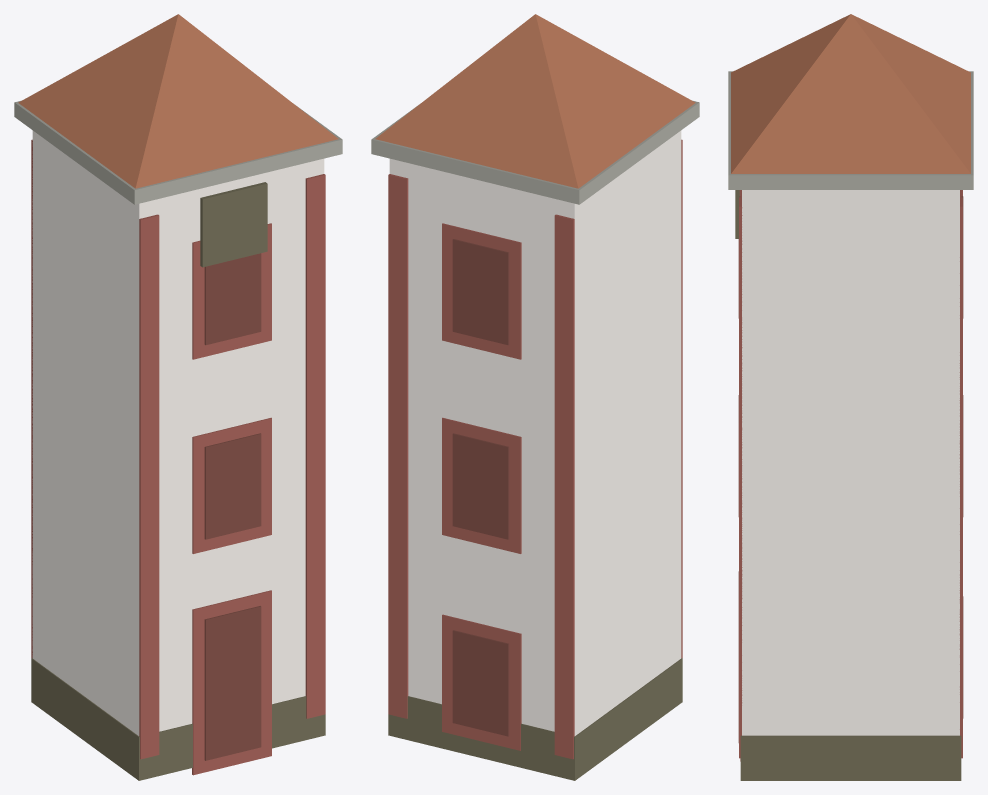
Rendered from SM_KitRemate_v2_LOD1.fbx.
The picture shows the model from 3 angles, left to right: view 1: azimuth 30°, elevation 25°; view 2: azimuth 150°, elevation 25°; view 3: azimuth 270°, elevation 25°; orthographic projection. The views are drawn at different scales.
Visible parts, largest first — view 1: SM_bloques.kit_remate_v2_LOD1; view 2: SM_bloques.kit_remate_v2_LOD1; view 3: SM_bloques.kit_remate_v2_LOD1.
Boxes of the visible parts, <box> form: SM_bloques.kit_remate_v2_LOD1: <box>14,14,342,780</box>; SM_bloques.kit_remate_v2_LOD1: <box>371,14,699,780</box>; SM_bloques.kit_remate_v2_LOD1: <box>728,14,973,780</box>.
Bounding box in the file's own units: 4.48 × 14.65 × 4.48.
